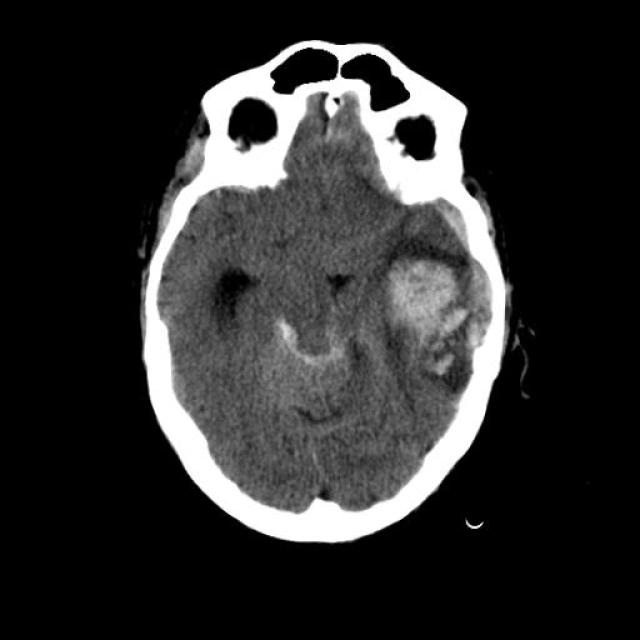Intraparenchymal: (362, 242, 472, 384)
Subarachnoid: (260, 310, 356, 372)
Subdural: (466, 261, 522, 363), (422, 190, 484, 246)
